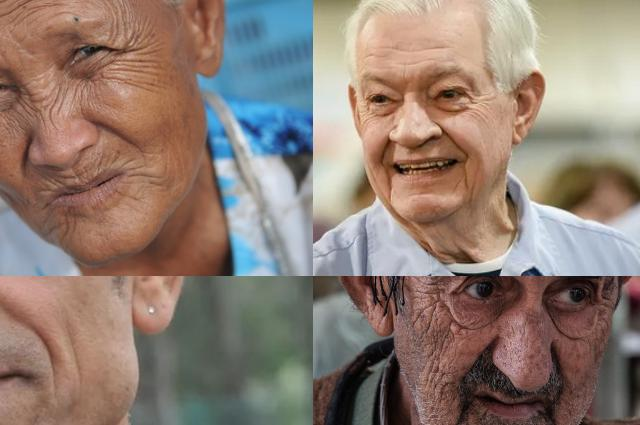bunny_line: (46, 90, 66, 130), (20, 99, 46, 129)
chin: (131, 163, 163, 187), (57, 212, 77, 238)
crows_feet: (112, 30, 144, 70), (426, 276, 456, 315), (592, 290, 612, 324), (468, 89, 484, 121), (357, 98, 371, 122)
forehead: (416, 38, 450, 56), (392, 54, 426, 71), (4, 0, 34, 19), (376, 42, 404, 56), (41, 0, 67, 8)
frown_line: (19, 80, 43, 108)
gummy_smile: (24, 318, 60, 372), (96, 118, 134, 144), (468, 336, 494, 371), (437, 123, 463, 155), (372, 135, 392, 166)
masseter: (422, 336, 446, 384), (408, 300, 426, 334)
sad_smile: (456, 162, 472, 192), (381, 172, 397, 200)
smoker_lines: (43, 171, 83, 187), (90, 152, 124, 170)
